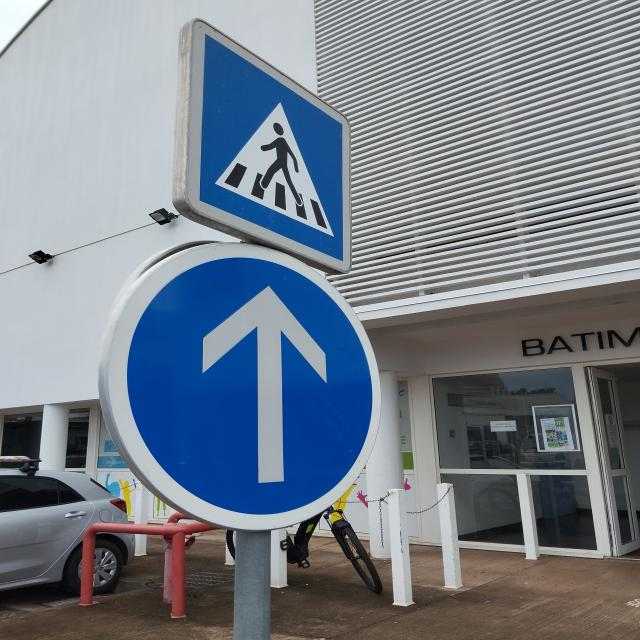Passage-pieton: (178, 18, 354, 272)
Sens-Unique: (102, 238, 384, 533)
